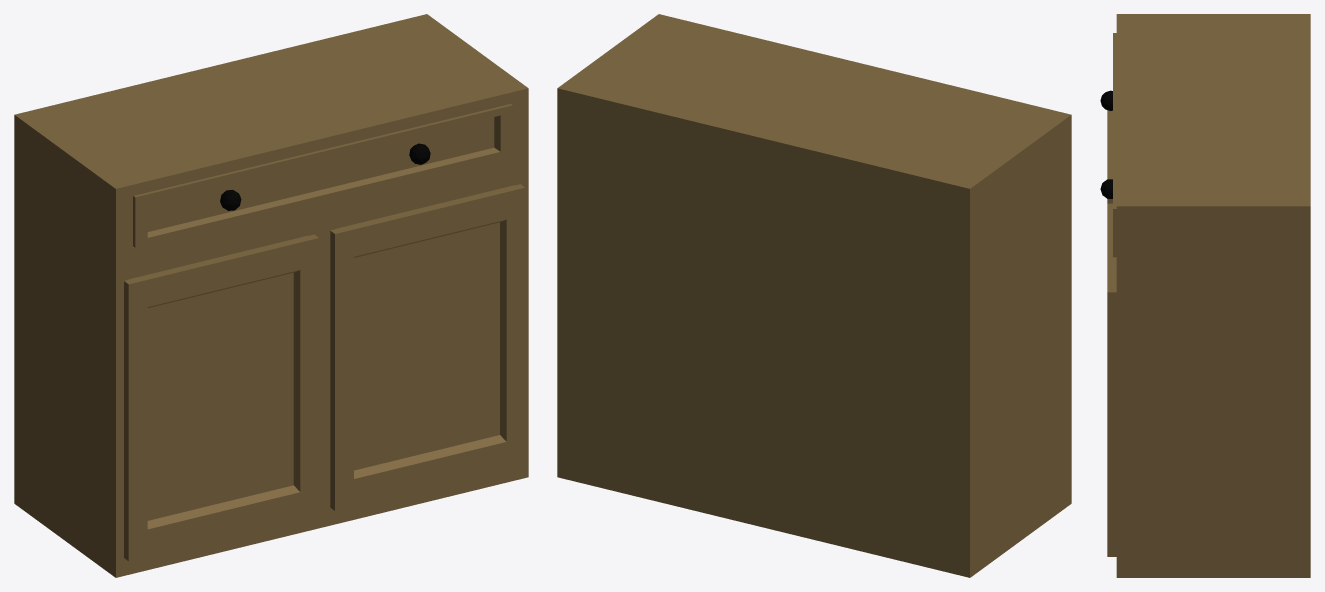
The model's file is Cabinet01.fbx.
3 renders of one model, left to right at view 1: azimuth 30°, elevation 25°; view 2: azimuth 150°, elevation 25°; view 3: azimuth 270°, elevation 25°, orthographic. The views are drawn at different scales.
Visible parts, largest first — view 1: Cube; view 2: Cube; view 3: Cube.
Part boxes in pixels (left/top/right/bottom): Cube: left=14, top=14, right=528, bottom=577; Cube: left=557, top=14, right=1071, bottom=577; Cube: left=1100, top=14, right=1310, bottom=577.
Bounding box in the file's own units: 154 × 139 × 71.08.
